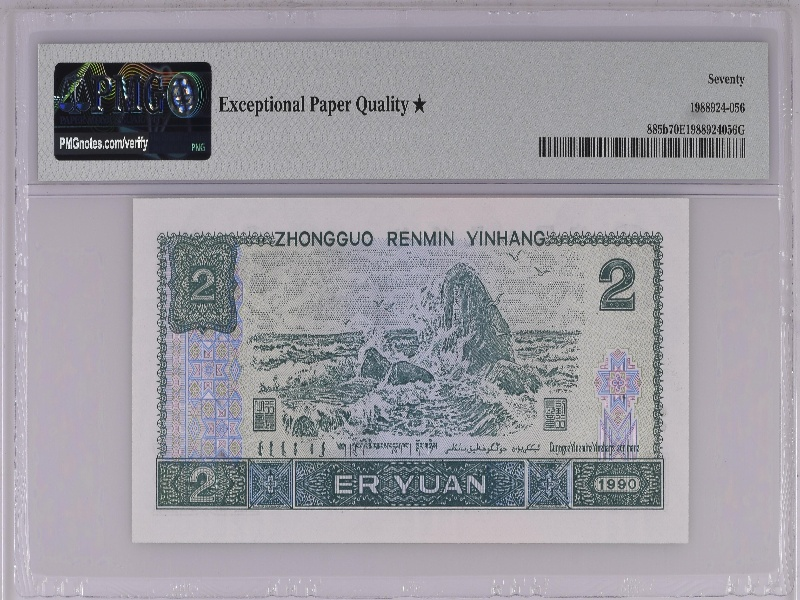papernote: (129, 192, 693, 547)
